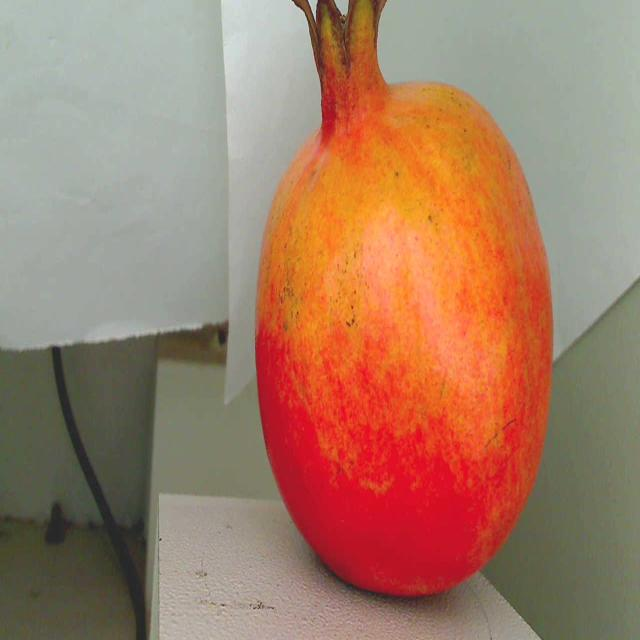pomegranate: (245, 0, 566, 595)
